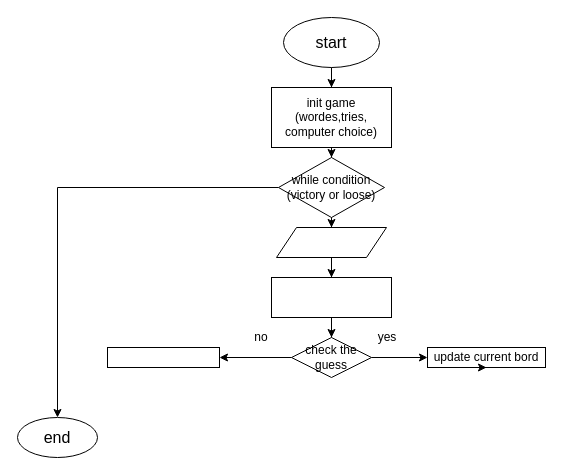
This 563x475 diagram has some shape labels left out. Each missing label, with the centre of its shape:
guesses_left -1: (x=163, y=357)
print current bord, guesses left: (x=331, y=242)
takeing a user guess: (x=331, y=297)
